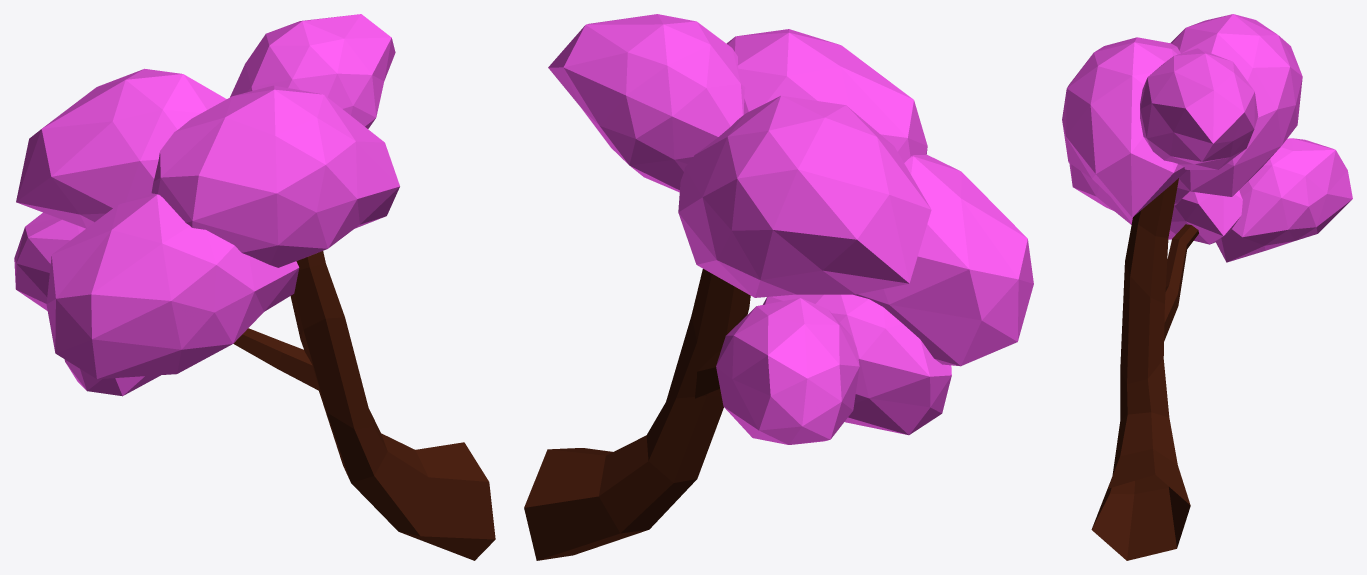
Rendered from mesh_FoliageTree1.FBX.
The picture shows the model from 3 angles, left to right: view 1: azimuth 30°, elevation 25°; view 2: azimuth 150°, elevation 25°; view 3: azimuth 270°, elevation 25°; orthographic projection. The views are drawn at different scales.
Visible parts, largest first — view 1: Object001; view 2: Object001; view 3: Object001.
Boxes of the visible parts, x1,y1,x2,y2 form: Object001: (14,14,495,560); Object001: (524,14,1033,560); Object001: (1062,14,1352,560).
Bounding box in the file's own units: 422 × 523 × 303.
